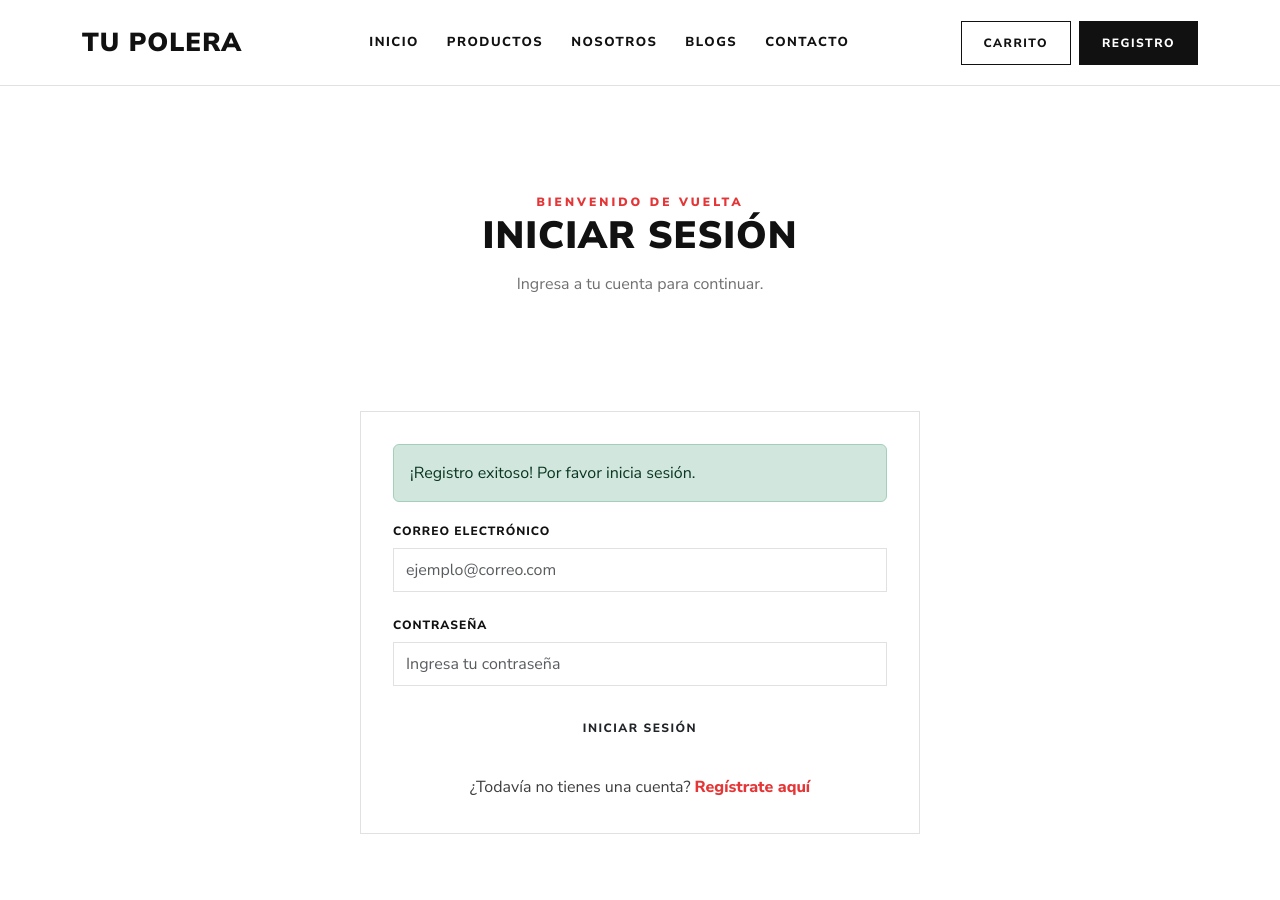
it: Componente Login › 4. Muestra error si la contraseña ingresada es incorrecta
Type "test@correo.com" into the field labelled "Correo electrónico" at (640, 570), box [393,548,887,592]
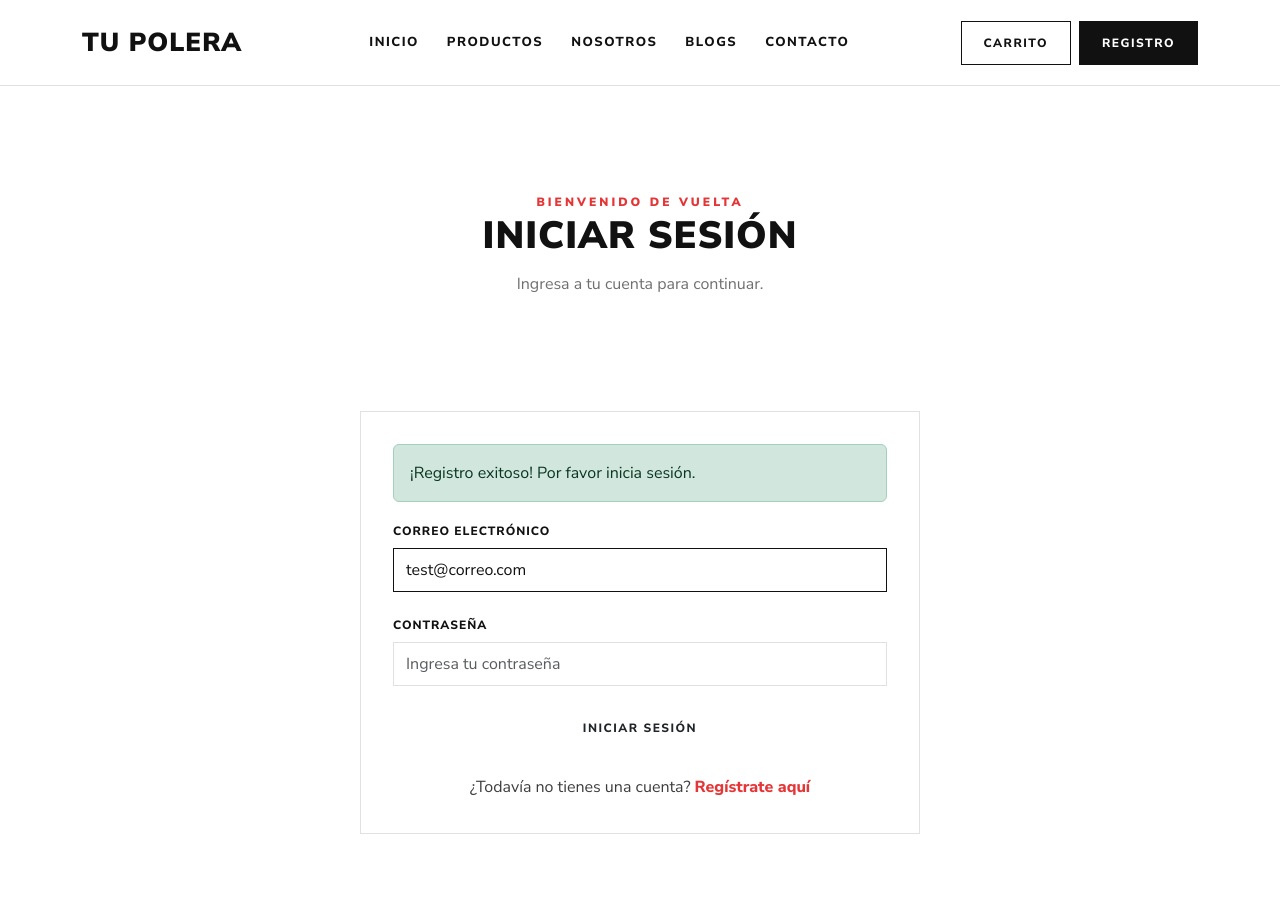
Type "passwordIncorrecta" into the password field labelled "Contraseña" at (640, 664), box [393,642,887,686]
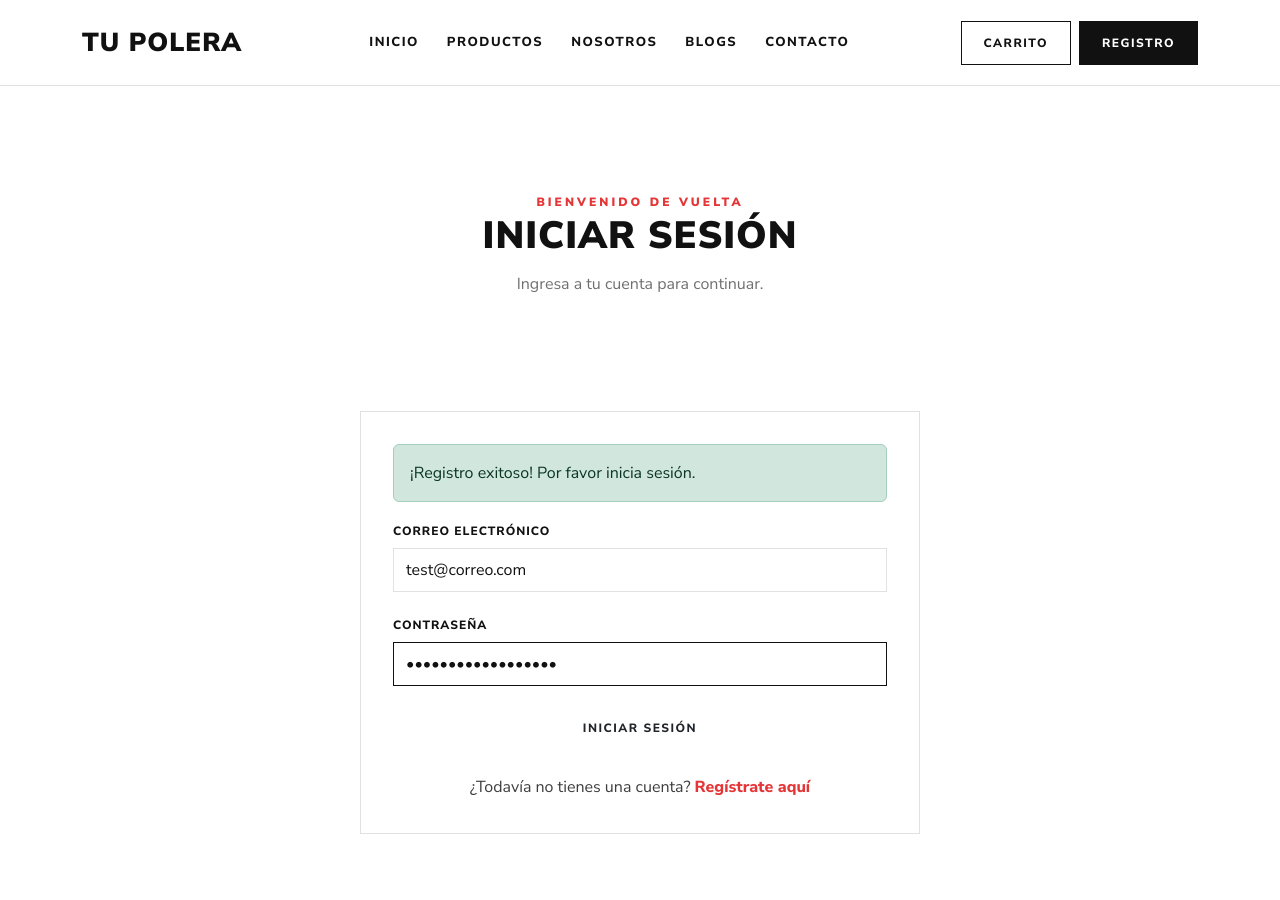
Click the button "Iniciar sesión" at (640, 728), box [393,706,887,750]
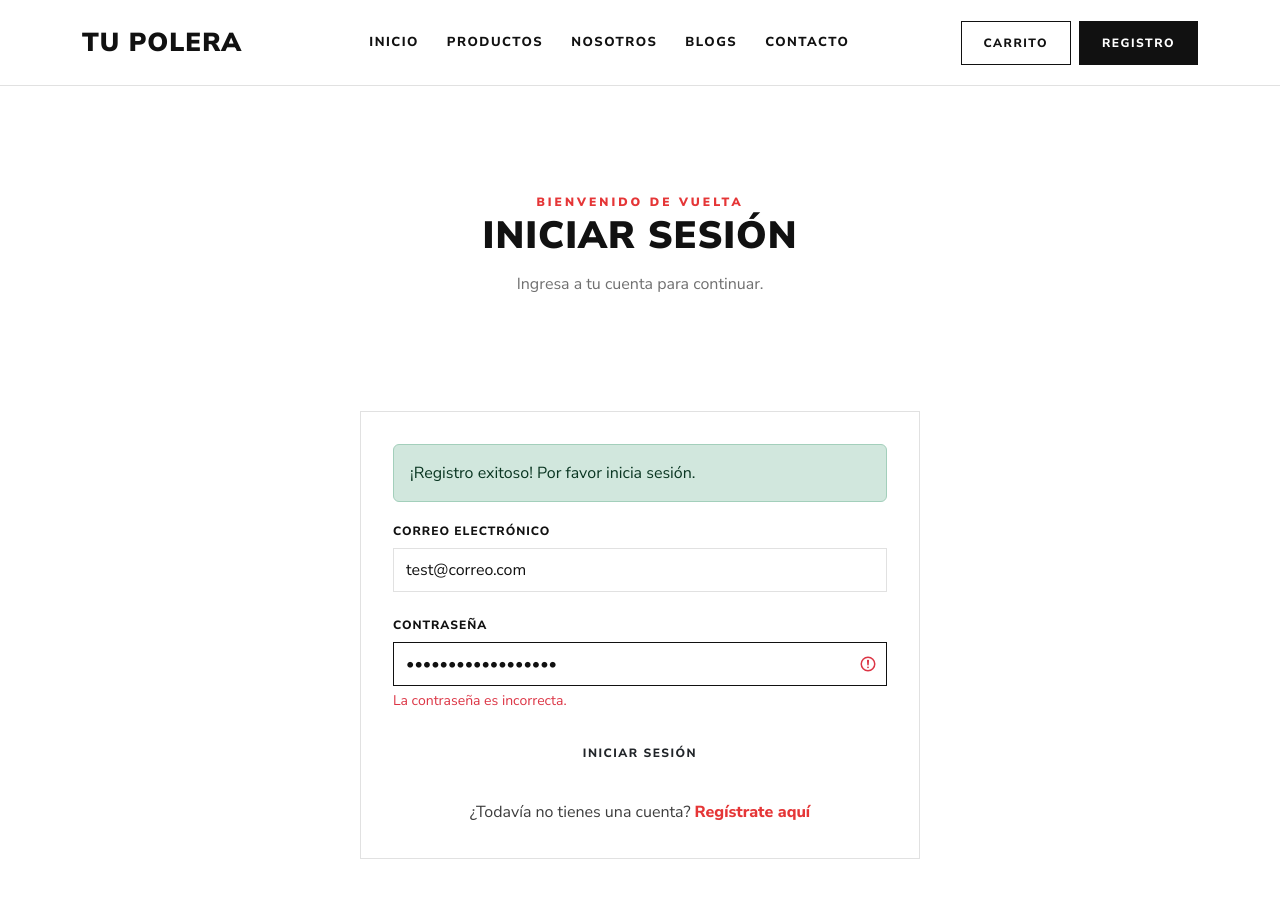
Expected: the text "La contraseña es incorrecta." is shown, [393,691,567,710]
